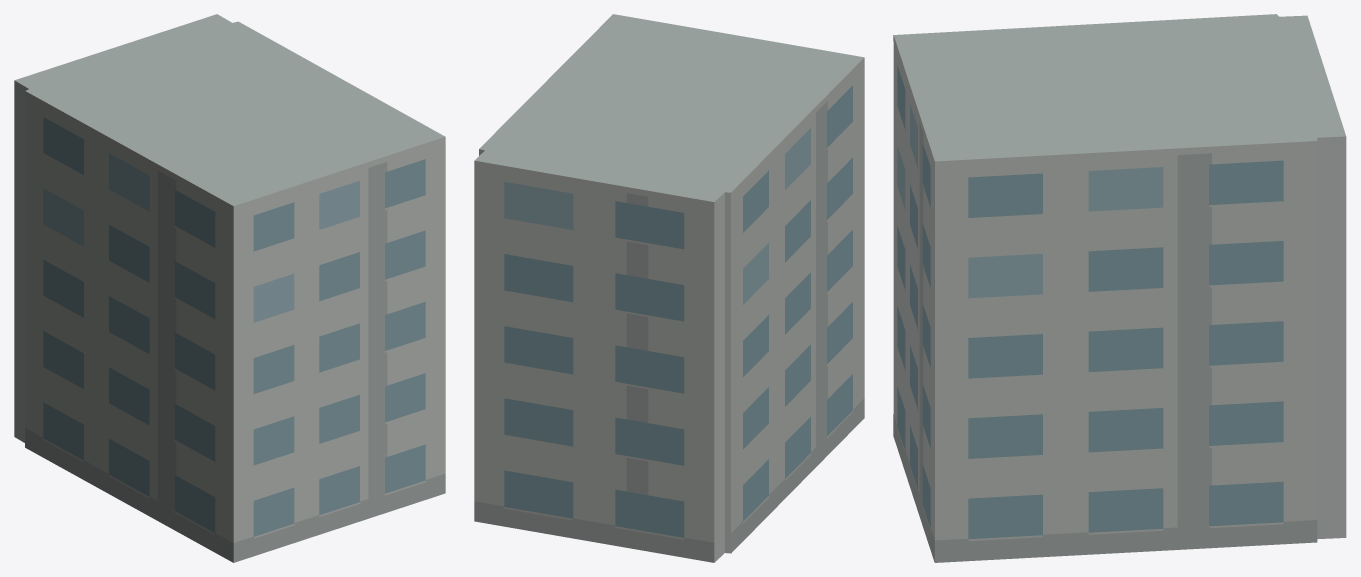
File: survey-upis-32532921.glb
3 renders of one model, left to right at view 1: azimuth 30°, elevation 25°; view 2: azimuth 150°, elevation 25°; view 3: azimuth 270°, elevation 25°, orthographic. The views are drawn at different scales.
Visible parts, largest first — view 1: survey-upis-32532921.tmp; view 2: survey-upis-32532921.tmp; view 3: survey-upis-32532921.tmp.
Part boxes in pixels (bbox=[...]): survey-upis-32532921.tmp: bbox=[14, 14, 445, 562]; survey-upis-32532921.tmp: bbox=[474, 14, 864, 562]; survey-upis-32532921.tmp: bbox=[893, 14, 1346, 562].
Size of the model in its own units: 11.47 by 14.55 by 14.88.
